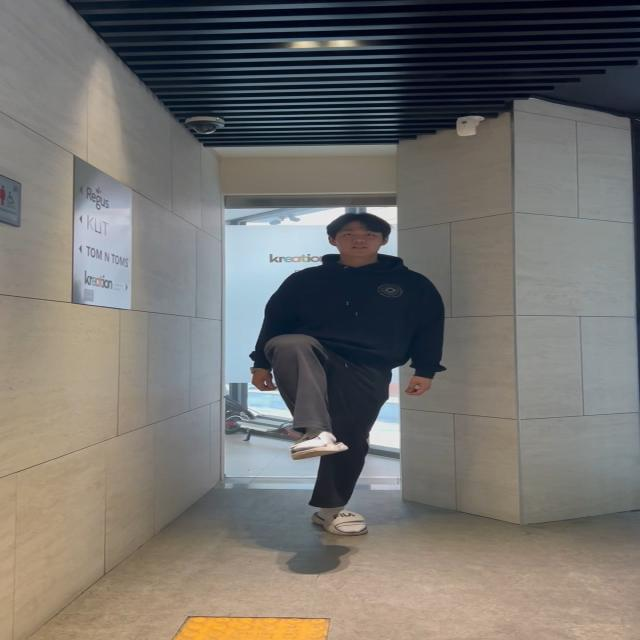knee: (256, 324, 362, 478)
